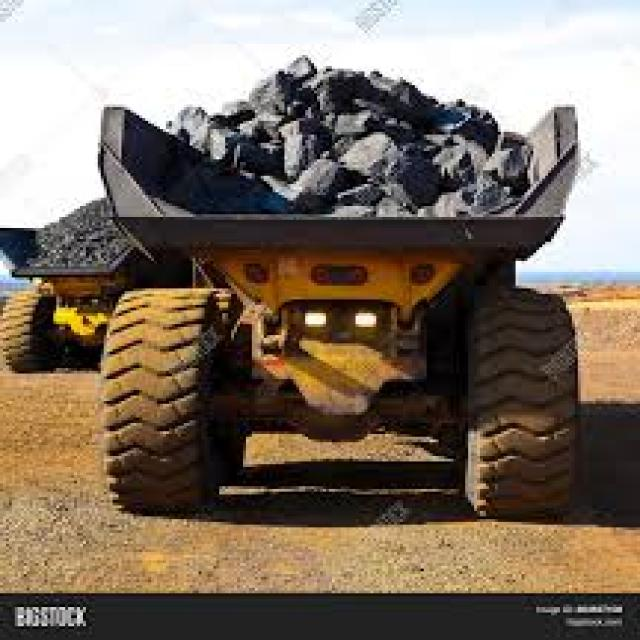dump_truck: (89, 61, 595, 519), (6, 181, 160, 374)
